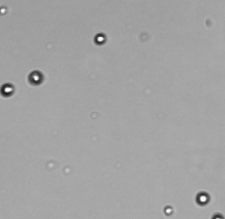Living Cell: (195, 191, 209, 205), (1, 82, 14, 97), (29, 70, 42, 84), (163, 203, 174, 216), (94, 33, 106, 44), (1, 6, 8, 15)
